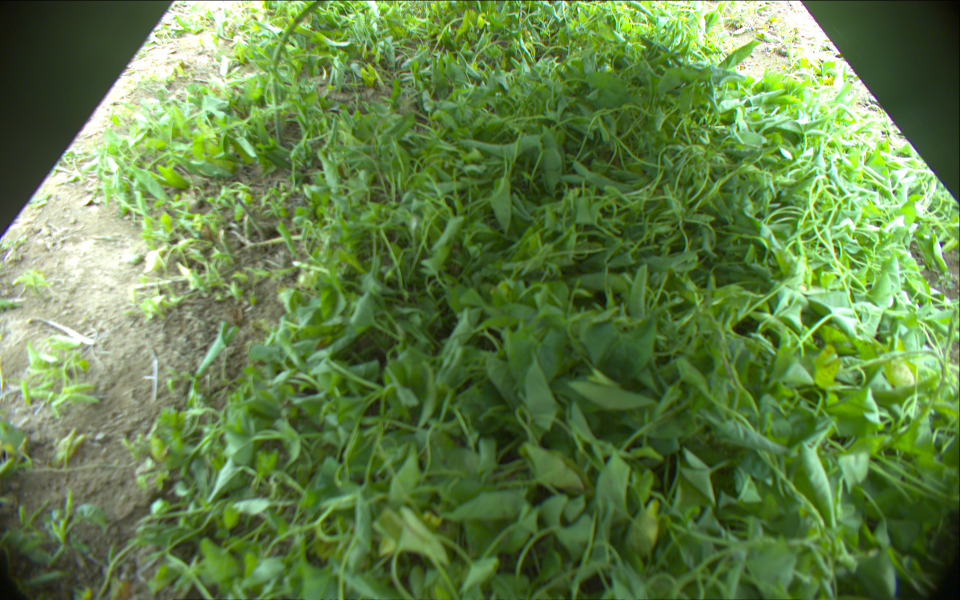aspa: (270, 1, 327, 145)
